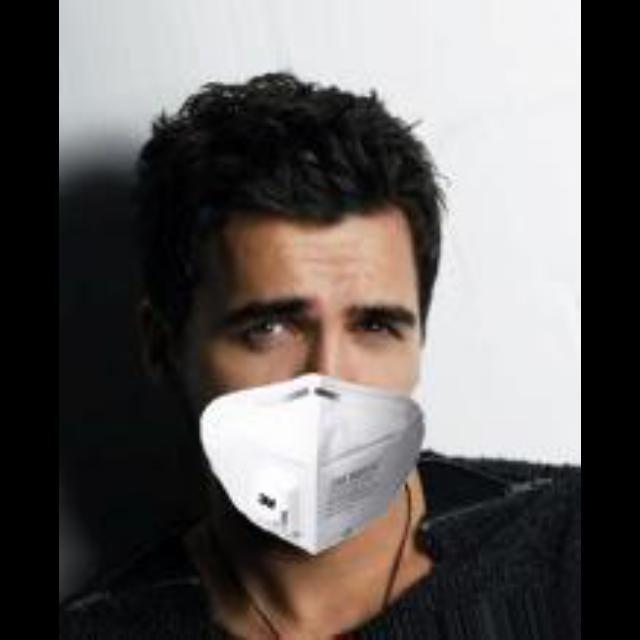suspicion: (185, 85, 460, 537)
